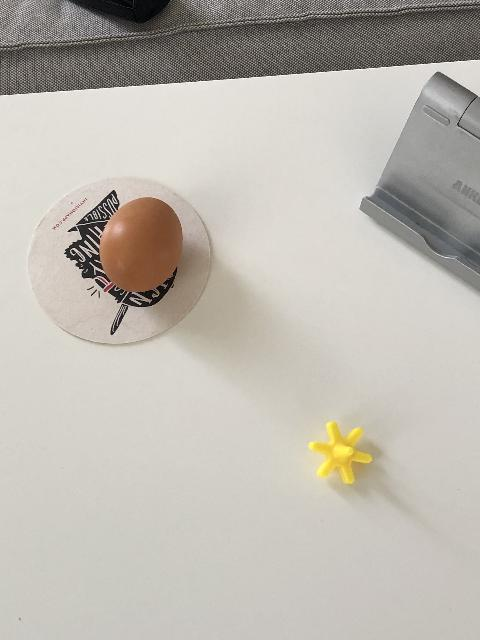Sano: (98, 196, 183, 293)
